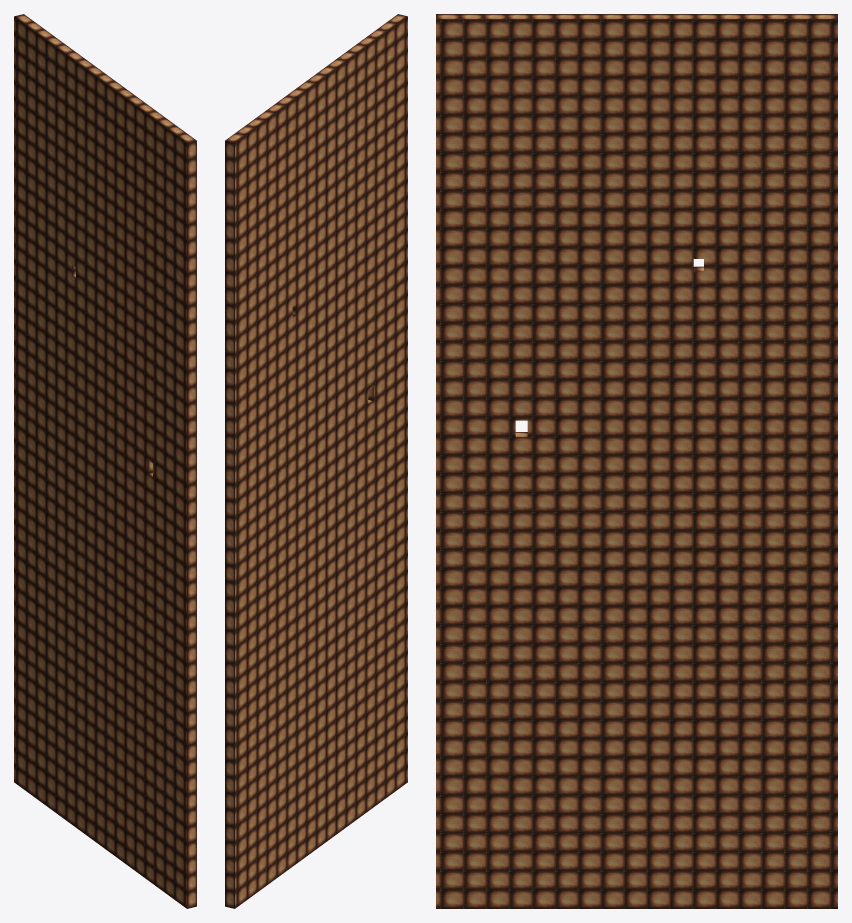
Rendered from env_st_salle_2_Mur_1.fbx.
3 renders of one model, left to right at view 1: azimuth 30°, elevation 25°; view 2: azimuth 150°, elevation 25°; view 3: azimuth 270°, elevation 25°, orthographic. The views are drawn at different scales.
Parts seen in each view (by area): view 1: Mur; view 2: Mur; view 3: Mur.
Part boxes in pixels (<box>): Mur: <box>14,14,196,908</box>; Mur: <box>225,14,407,908</box>; Mur: <box>436,14,837,908</box>.
Size of the model in its own units: 278 by 20770 by 8504.
